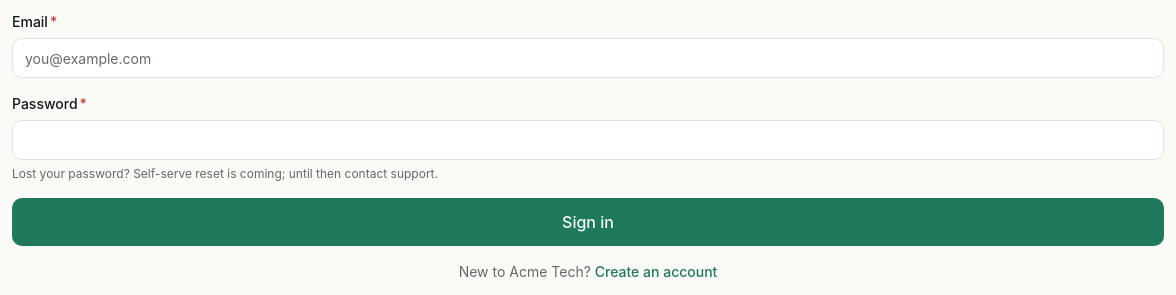
it: SignInForm › disables the form while the action is pending
In the field labelled "Email*": (588, 58) x1=12 y1=38 x2=1164 y2=78, type "kim@example.com"
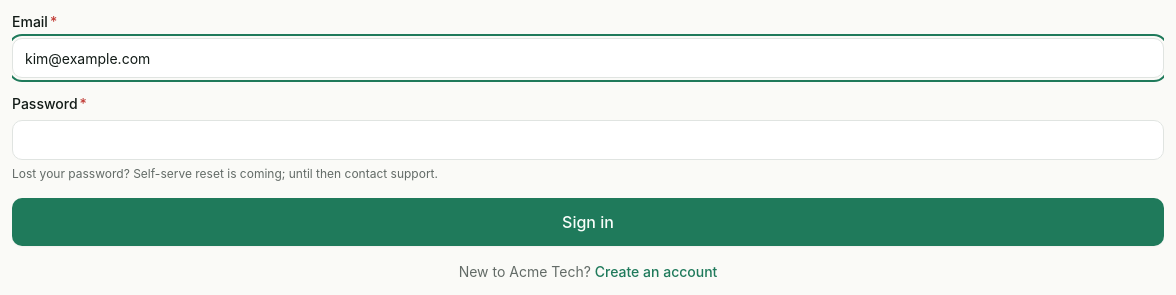
In the password field labelled "Password*": (588, 140) x1=12 y1=120 x2=1164 y2=160, type "a-long-password"
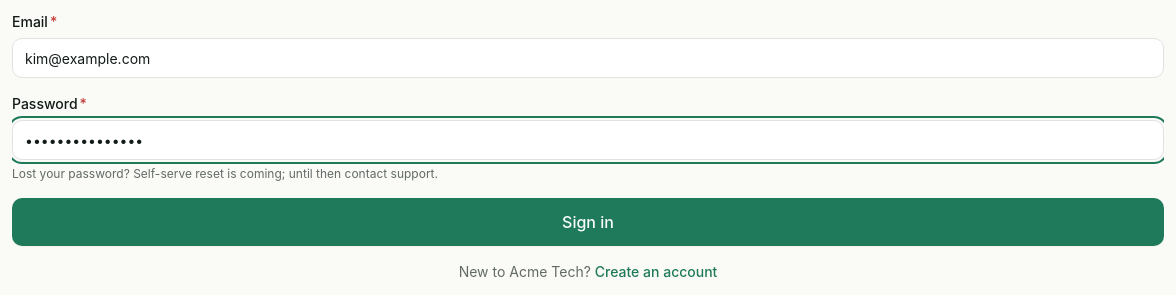
Click the button "Sign in": (588, 222) x1=12 y1=198 x2=1164 y2=246
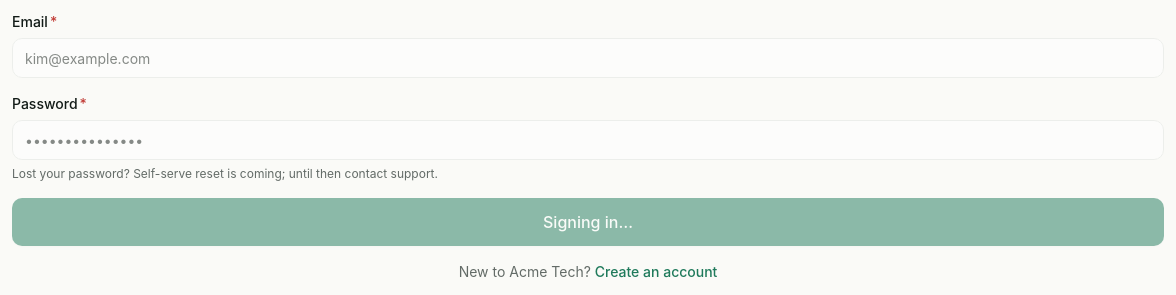
Check: the button "Signing in…" is disabled, box x1=12 y1=198 x2=1164 y2=246
Check: the field labelled "Email*" is disabled, box x1=12 y1=38 x2=1164 y2=78
